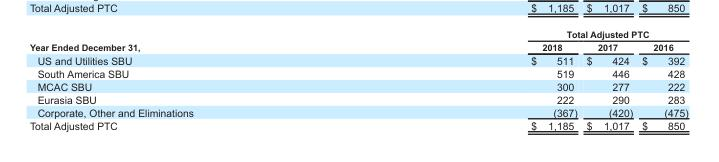table: (28, 28, 687, 130)
table column: (28, 28, 361, 130), (361, 28, 581, 130), (581, 28, 636, 130), (636, 28, 687, 130)
table column header: (28, 28, 687, 53)
table row: (28, 40, 687, 53), (28, 53, 687, 66), (28, 66, 687, 79), (28, 79, 687, 92), (28, 92, 687, 105), (28, 105, 687, 118), (28, 28, 687, 40), (28, 118, 687, 130)
table spanning cell: (28, 28, 361, 53), (361, 28, 687, 40)
